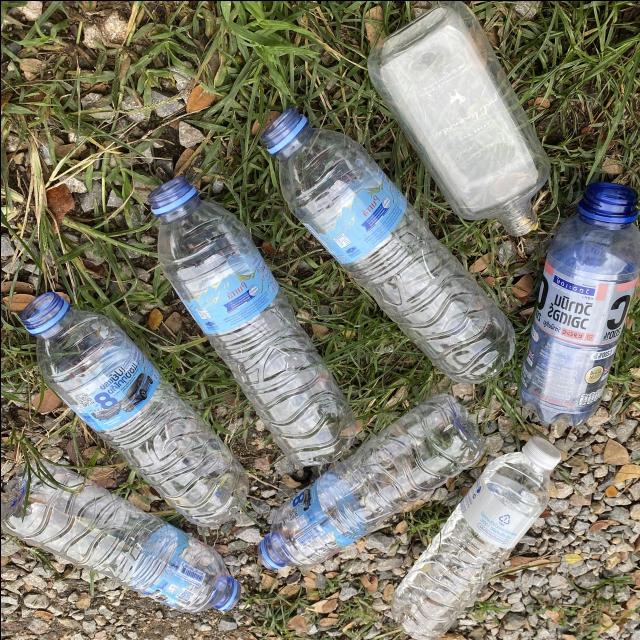plastik: (260, 108, 514, 382), (147, 175, 355, 465), (19, 292, 247, 525), (366, 0, 550, 235), (258, 394, 482, 568), (0, 461, 239, 611), (391, 434, 560, 640), (518, 181, 640, 425)
